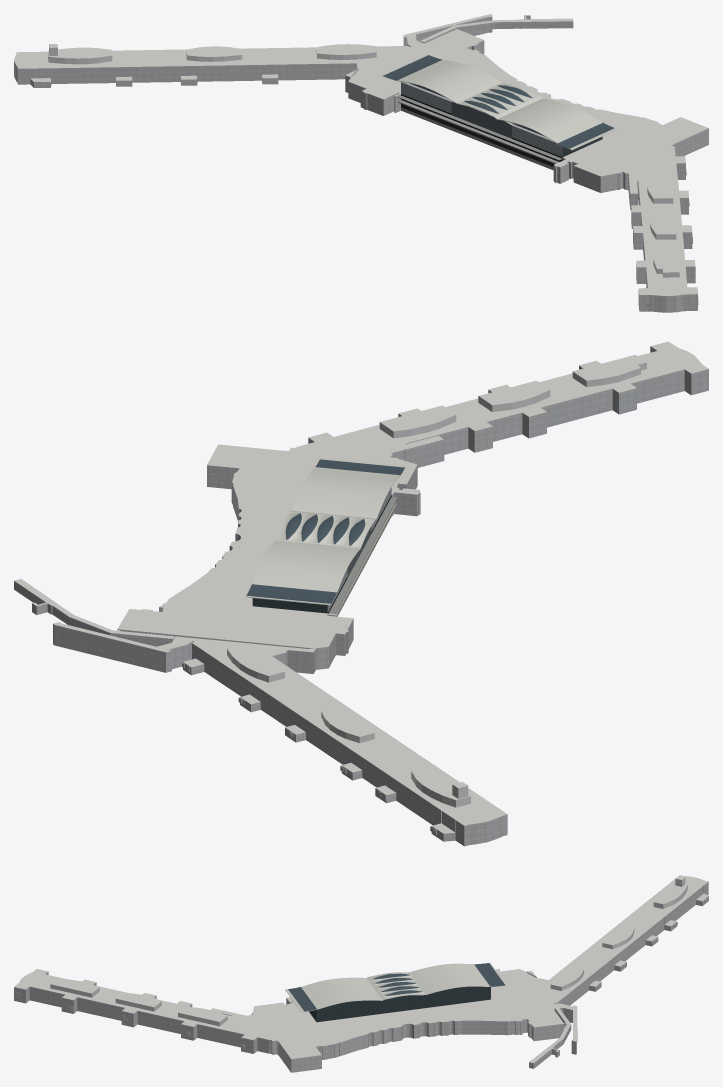
File: itb_lod2.glb
3 views of the same model, one above another, from view 1: azimuth 30°, elevation 25°; view 2: azimuth 150°, elevation 25°; view 3: azimuth 270°, elevation 25° (orthographic). The views are drawn at different scales.
Parts seen in each view (by area): view 1: L2_itb; view 2: L2_itb; view 3: L2_itb.
Boxes of the visible parts, x1,y1,x2,y2 form: L2_itb: [14, 14, 708, 312]; L2_itb: [14, 341, 708, 846]; L2_itb: [14, 875, 708, 1072].
Bounding box in the file's own units: 526 × 40.49 × 818.
Materials: 20 (4 with a texture image).
